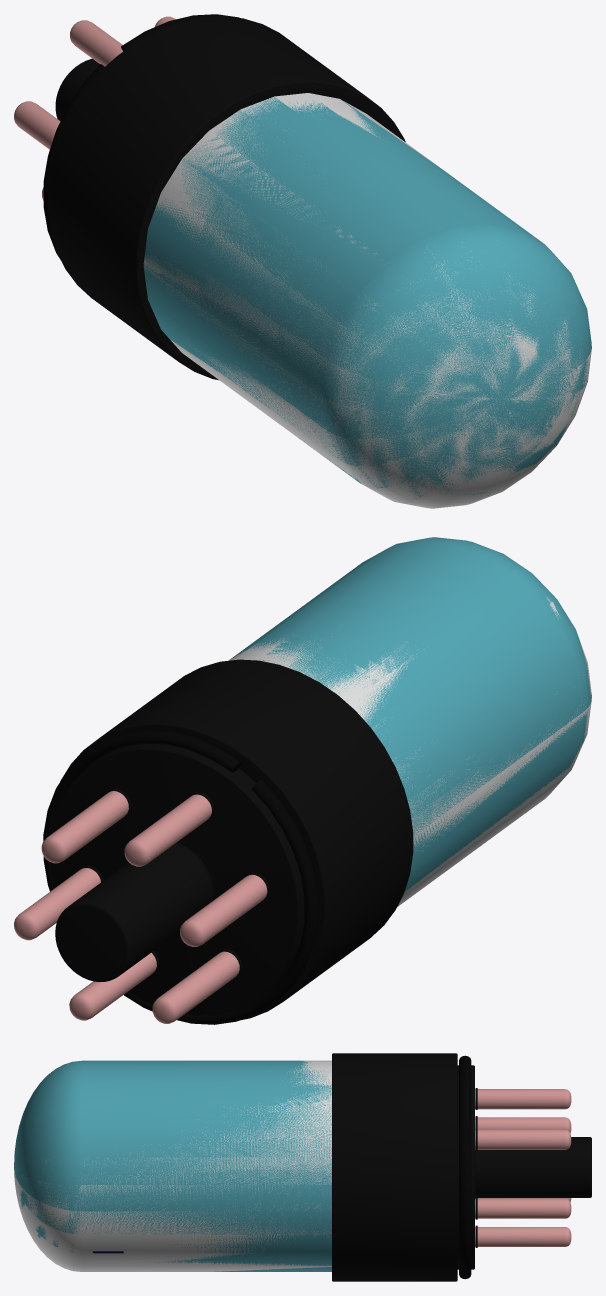
3 renders of one model, top to bottom at view 1: azimuth 30°, elevation 25°; view 2: azimuth 150°, elevation 25°; view 3: azimuth 270°, elevation 25°, orthographic. The views are drawn at different scales.
Visible parts, largest first — view 1: tube5_LOD0, tube5glass_LOD0; view 2: tube5_LOD0, tube5glass_LOD0; view 3: tube5_LOD0, tube5glass_LOD0.
Part boxes in pixels (left/top/right/bottom): tube5_LOD0: left=14, top=14, right=591, bottom=501; tube5glass_LOD0: left=143, top=93, right=591, bottom=508; tube5_LOD0: left=14, top=537, right=591, bottom=1024; tube5glass_LOD0: left=229, top=597, right=591, bottom=906; tube5_LOD0: left=14, top=1053, right=591, bottom=1281; tube5glass_LOD0: left=14, top=1060, right=331, bottom=1271.
Size of what is drawn, in the model's own units: 1.52 by 1.52 by 3.86.
